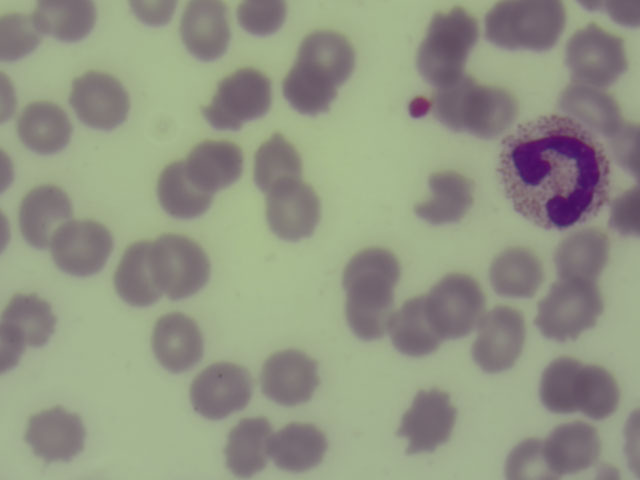Platelets: (404, 91, 432, 124)
RBC: (178, 1, 234, 59), (502, 433, 564, 480), (266, 185, 321, 237), (249, 134, 304, 186), (187, 138, 242, 190), (152, 168, 207, 220), (429, 279, 484, 331), (476, 315, 531, 367), (400, 395, 455, 447), (545, 421, 600, 473), (534, 356, 589, 408), (573, 365, 628, 417), (490, 246, 545, 298), (418, 173, 473, 225), (541, 286, 596, 338), (557, 230, 612, 282), (565, 83, 620, 135), (568, 29, 623, 81), (464, 84, 519, 136), (430, 72, 485, 124), (411, 32, 466, 84), (427, 2, 482, 54), (283, 65, 338, 117), (300, 27, 355, 79), (214, 70, 269, 122), (271, 422, 326, 474), (221, 419, 276, 471), (263, 350, 318, 402), (193, 361, 248, 413), (149, 316, 204, 368), (153, 238, 208, 290), (114, 246, 169, 298), (27, 407, 82, 459), (2, 290, 57, 342), (55, 222, 110, 274), (20, 189, 75, 241), (18, 102, 73, 154), (71, 74, 126, 126), (343, 241, 398, 293), (341, 288, 396, 340), (389, 300, 444, 352), (514, 1, 569, 52), (37, 1, 98, 37), (1, 11, 36, 64), (611, 118, 640, 180), (608, 185, 640, 240), (486, 1, 521, 51), (235, 1, 288, 34), (1, 314, 26, 375), (126, 1, 178, 28)
WBC: (506, 118, 606, 233)
